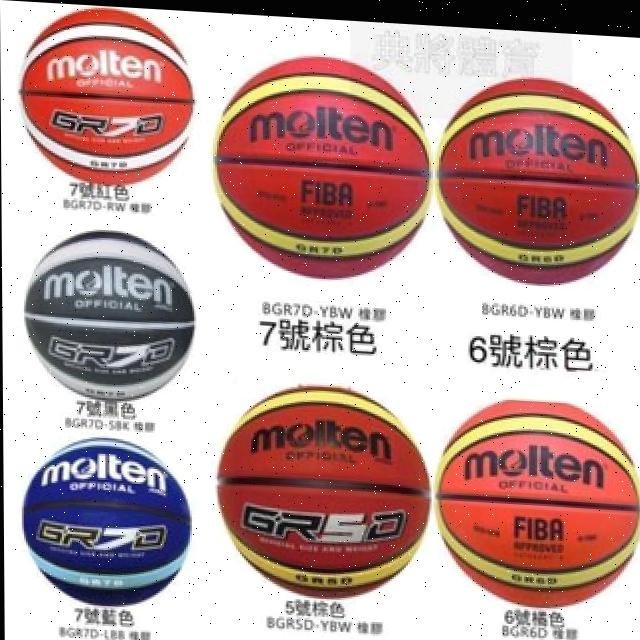Basketball: (213, 51, 431, 286), (212, 376, 427, 604), (436, 393, 640, 613), (440, 73, 640, 294), (20, 7, 195, 192), (25, 224, 194, 405), (21, 436, 192, 614)
